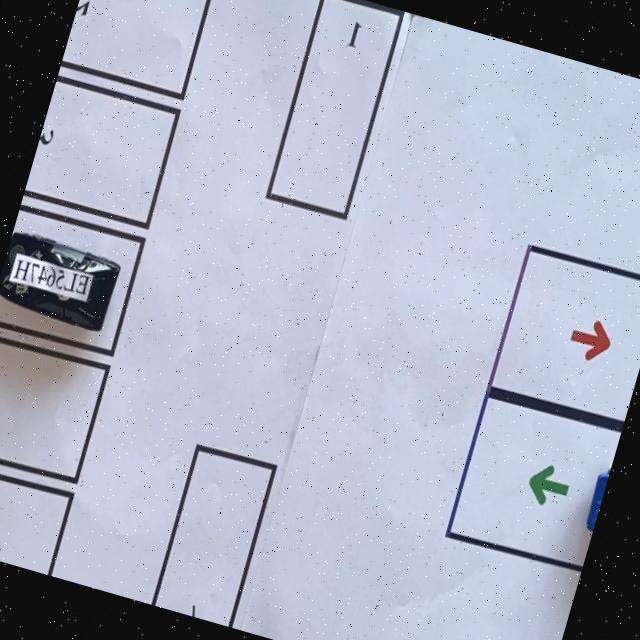car: (0, 225, 124, 336), (581, 461, 612, 536)
